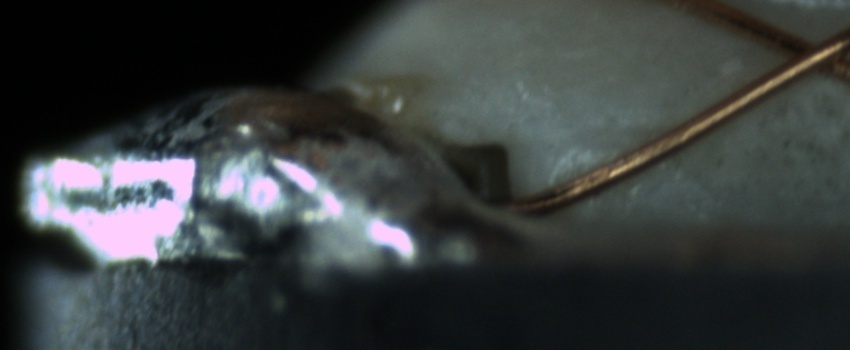CL: (755, 19, 848, 91)
DL: (563, 100, 662, 163)
